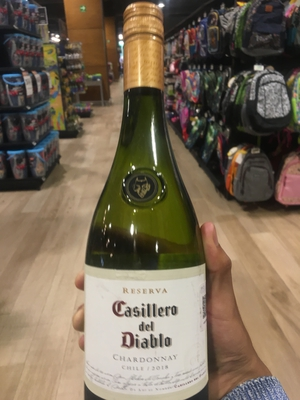casillero del diablo chardonnay: (83, 11, 211, 400)
